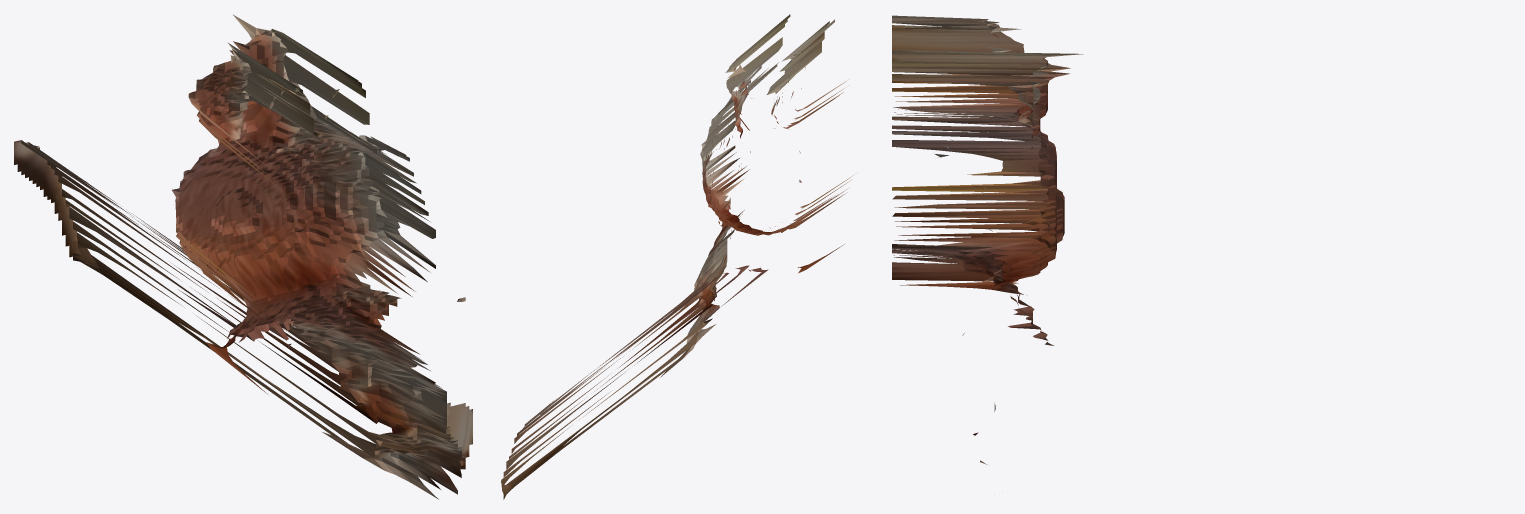
File: frame_00346.glb
The picture shows the model from 3 angles, left to right: view 1: azimuth 30°, elevation 25°; view 2: azimuth 150°, elevation 25°; view 3: azimuth 270°, elevation 25°; orthographic projection. The views are drawn at different scales.
Parts seen in each view (by area): view 1: geometry_0; view 2: geometry_0; view 3: geometry_0.
Part boxes in pixels (x1,y1,x2,y2): geometry_0: [14, 14, 472, 499]; geometry_0: [501, 14, 853, 499]; geometry_0: [892, 15, 1083, 464].
Bounding box in the file's own units: 0.0584 × 0.1174 × 0.16.
Materials: 1 (1 with a texture image).
